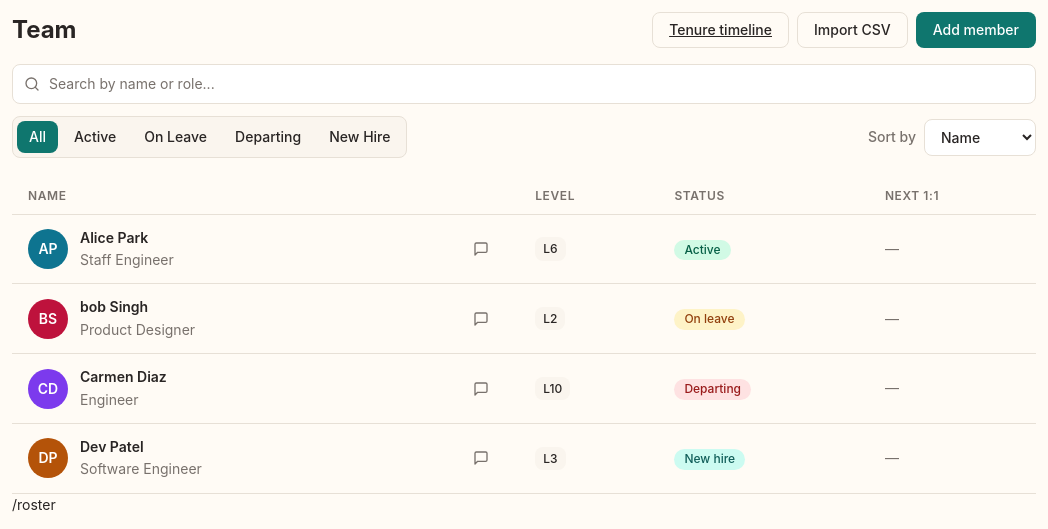
Test: Roster › status filter shows only matching members
Click the radio button labelled "On Leave" at x=176, y=137, box [132, 121, 219, 153]
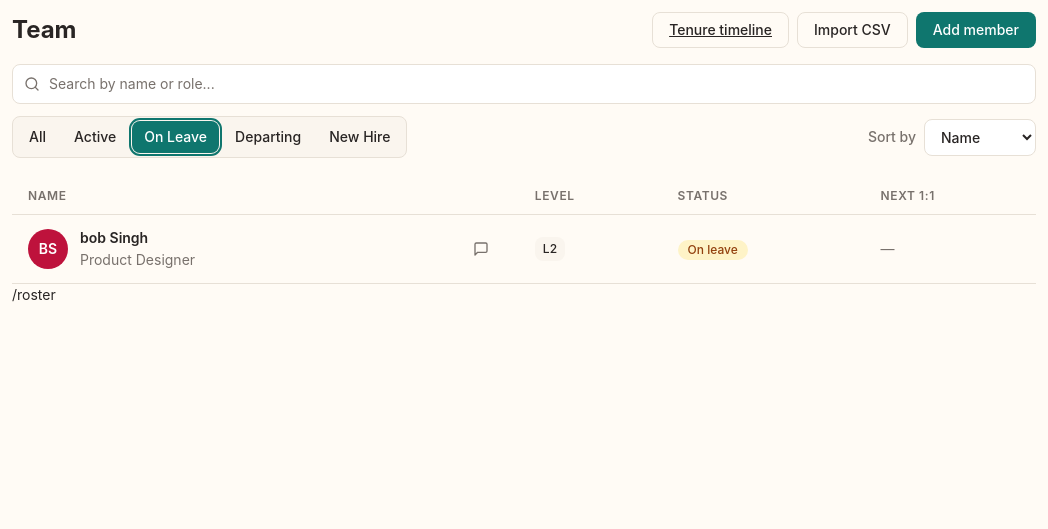
Click the radio button labelled "Departing" at x=268, y=137, box [223, 121, 313, 153]
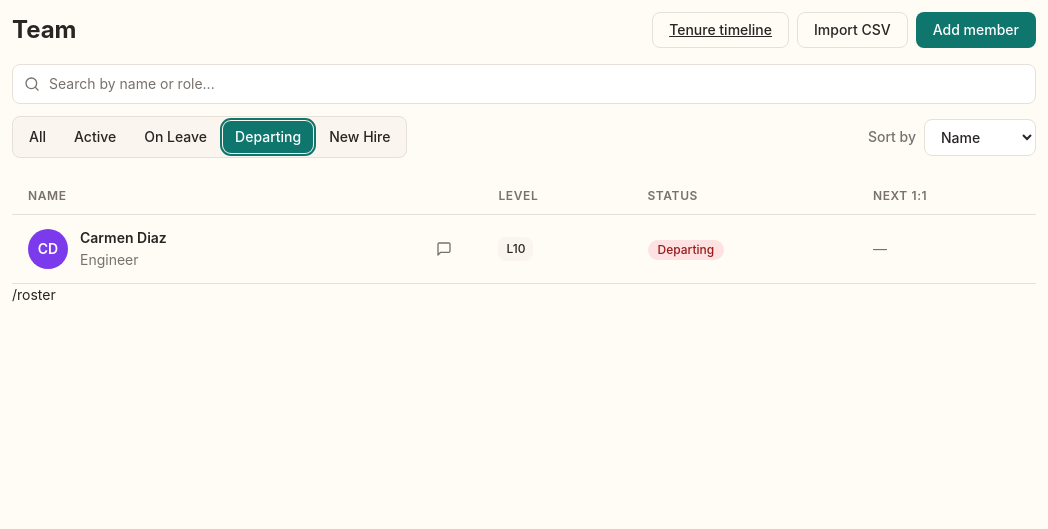
Click the radio button labelled "All" at x=38, y=137, box [17, 121, 58, 153]
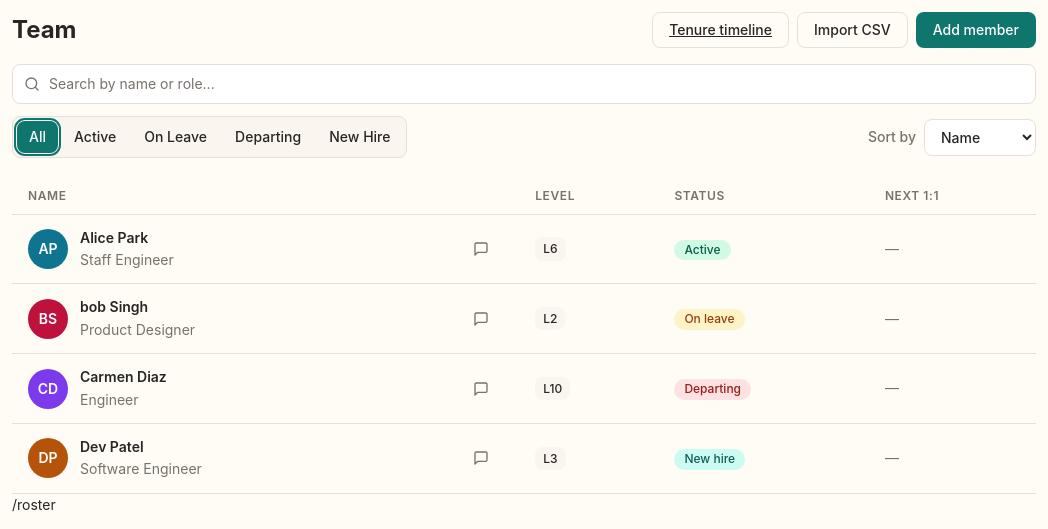
Check: the number of rows with test id "member-row" is 4, box [12, 215, 1036, 284]; [12, 284, 1036, 354]; [12, 354, 1036, 423]; [12, 423, 1036, 493]
